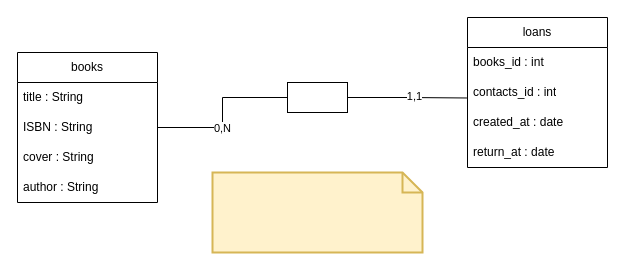
The diagram is 625 pixels wide and 272 high, and some of its shapes have lost their labels. The shapes that lost their labels are listed below. From the top down, each one's centre as x and y in pixels, then its label:
At point 317,97: "be".
At point 317,212: "JAV1 - Menoud Yann - MCD App for loaning books Version 2.0 Created at 11.05.2023".
